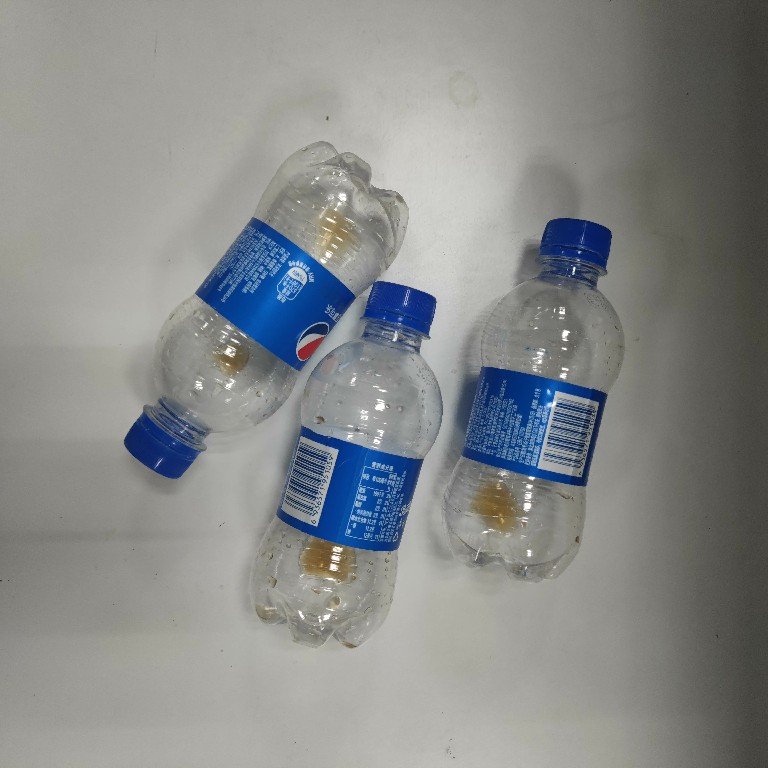bottle: (121, 137, 412, 483), (246, 275, 446, 650), (439, 215, 629, 588)
